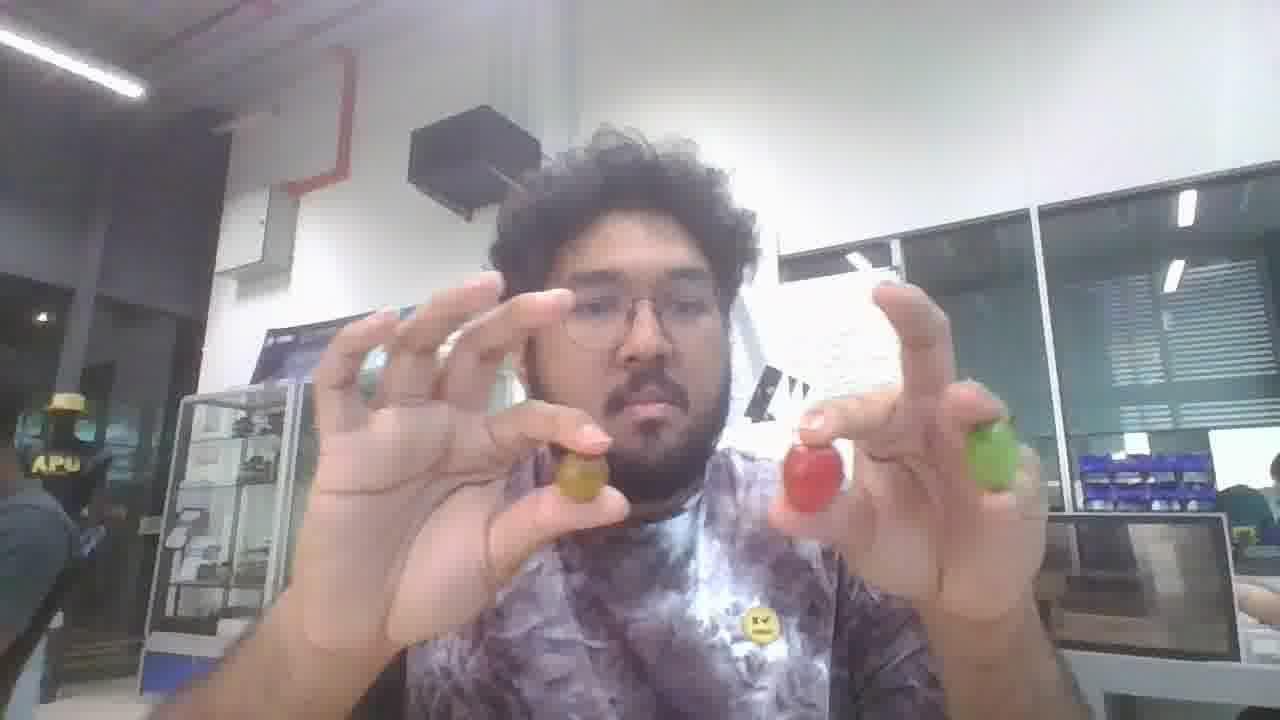green_cherry_tomato: (966, 420, 1018, 491)
red_cherry_tomato: (782, 444, 843, 513)
yellow_cherry_tomato: (555, 453, 607, 501)
